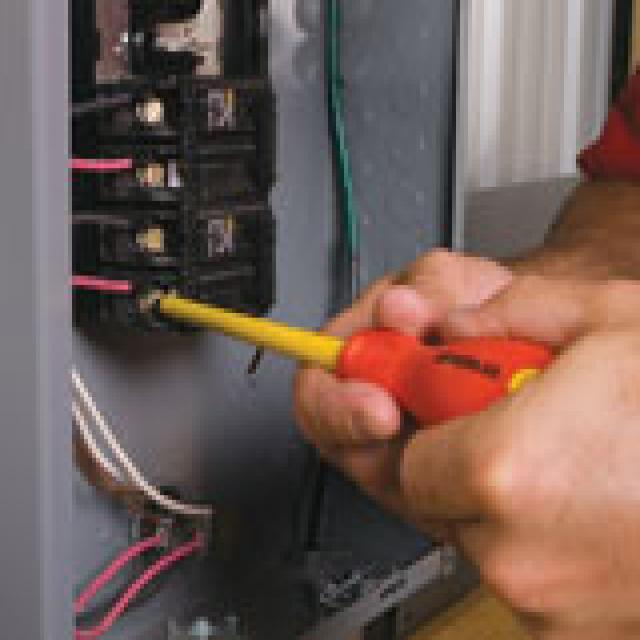screwdriver: (134, 262, 608, 472)
